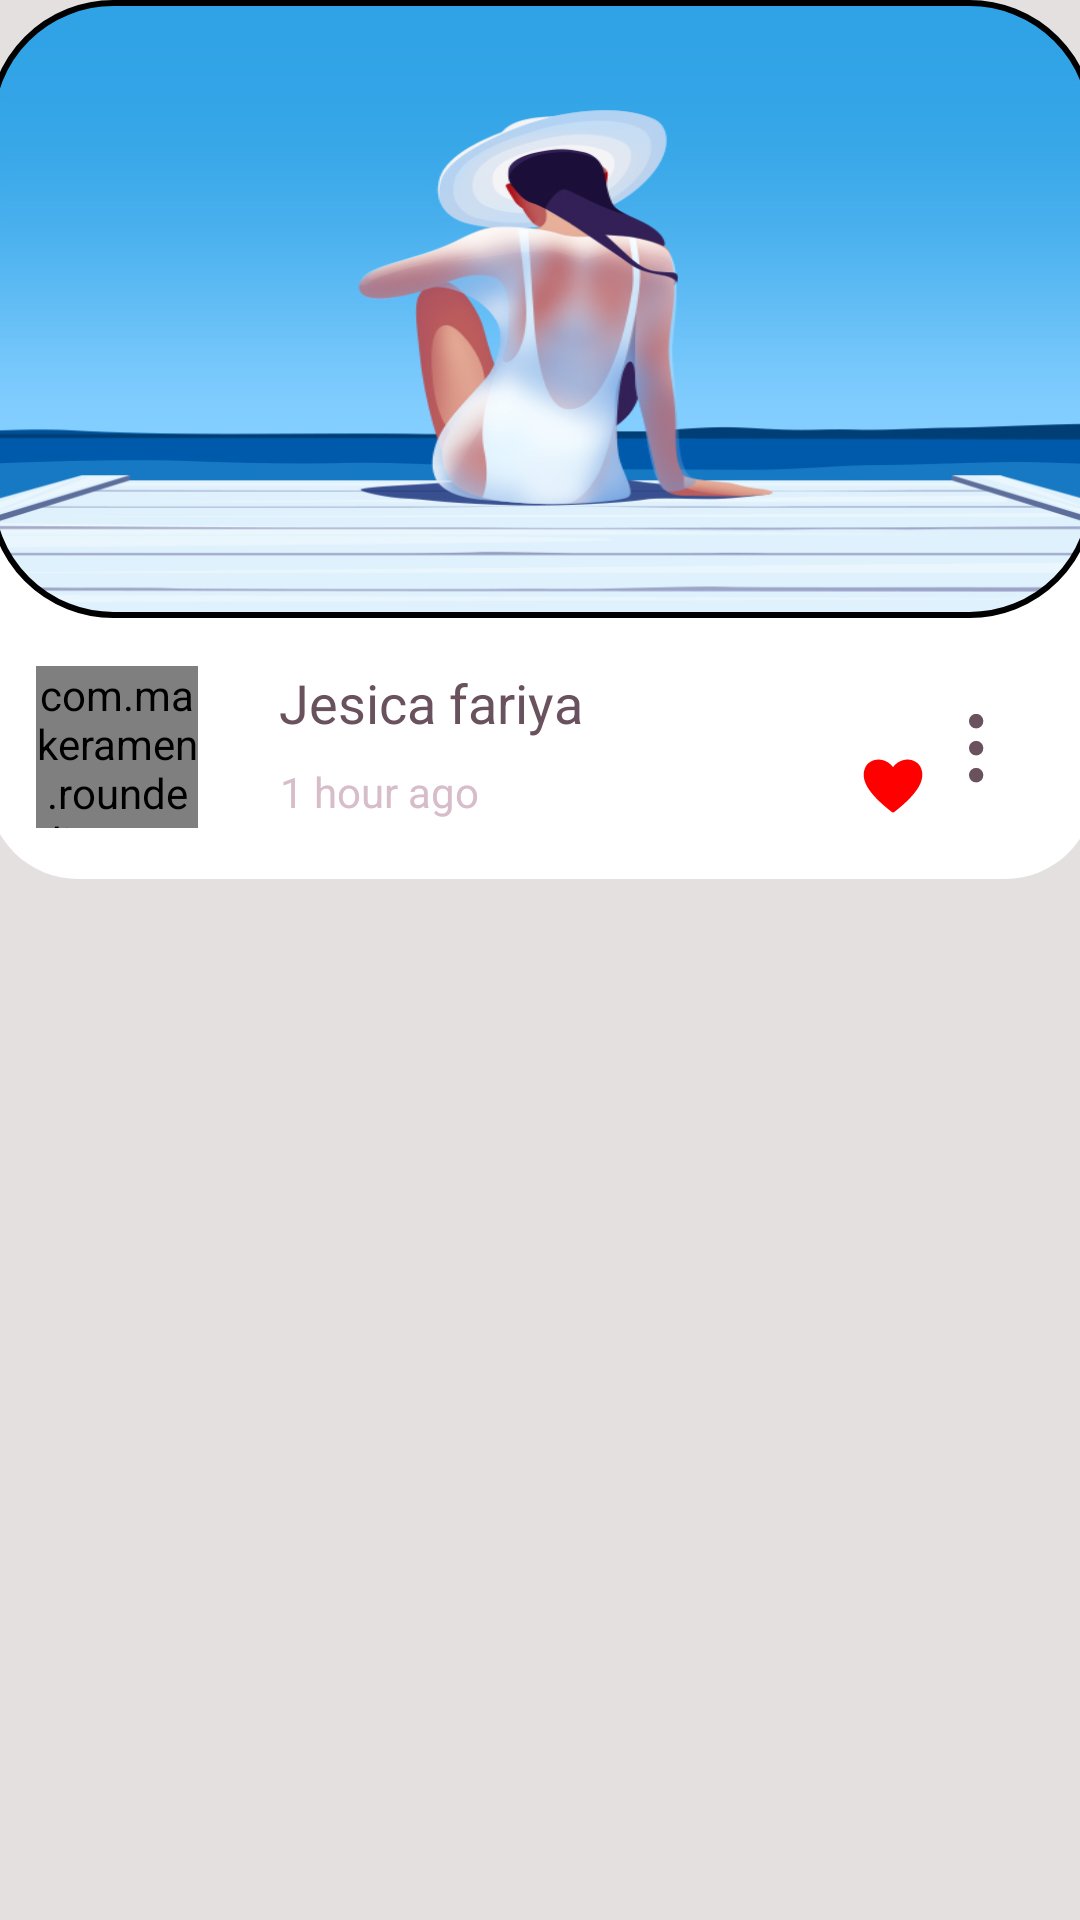

Where to tap for icons on this 1080w x 1920h app screen, as [x,y]:
clarity heart: [893,786]
